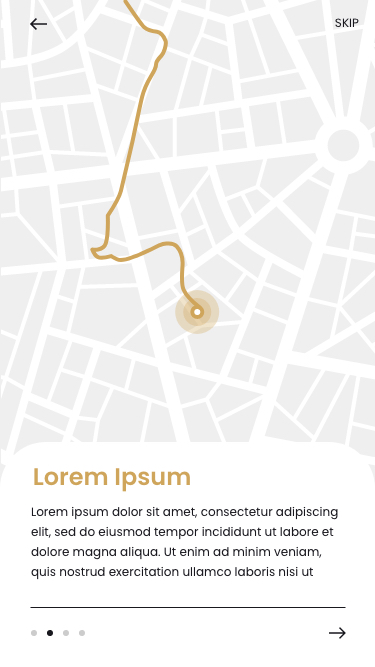Icon: (30, 18, 49, 32), (329, 626, 347, 640)
Image: (1, 1, 375, 478)
PageIndicator: (31, 629, 87, 637)
Text: (31, 506, 338, 580), (34, 467, 192, 493), (335, 17, 360, 29)
